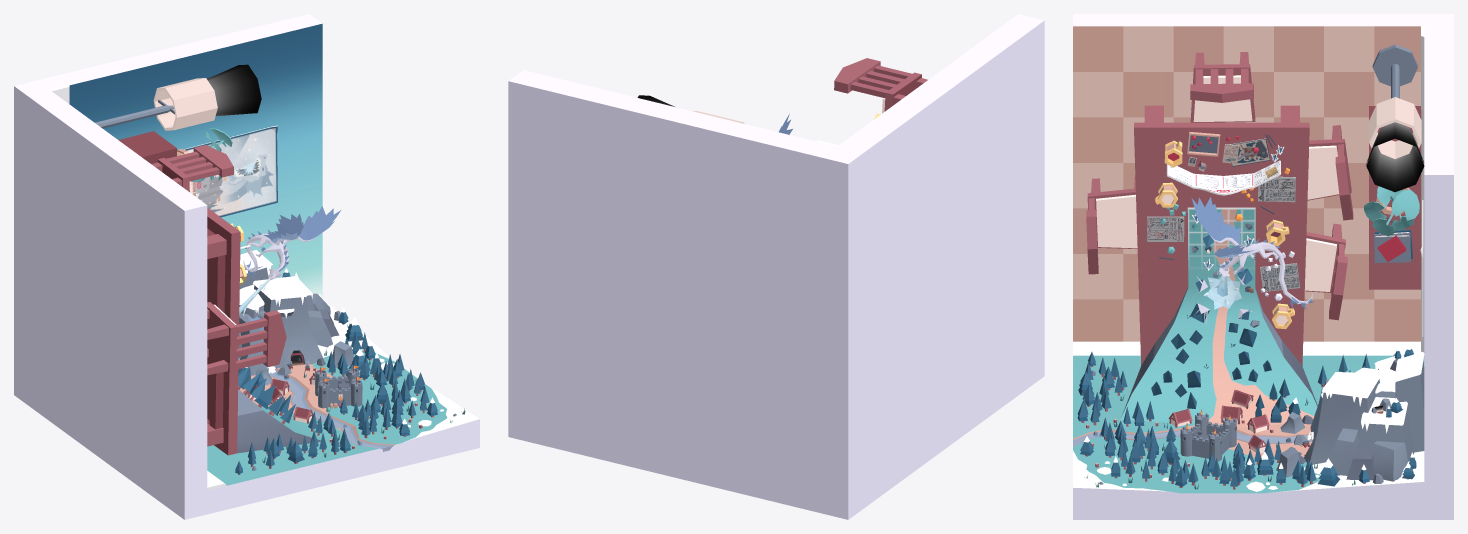
The model's file is dragon-room.glb.
3 views of the same model, side by side, from view 1: azimuth 30°, elevation 25°; view 2: azimuth 150°, elevation 25°; view 3: azimuth 270°, elevation 25° (orthographic). The views are drawn at different scales.
Visible parts, largest first — view 1: Room_GEO, Furniture_GEO, RockmineKeep_GEO, Dragon_GEO; view 2: Room_GEO, Furniture_GEO; view 3: Room_GEO, Furniture_GEO, RockmineKeep_GEO, Table_Decorations_GEO, Dragon_GEO, ShelfItems_GEO.
Part boxes in pixels (bbox=[...]): Room_GEO: bbox=[14, 14, 479, 519]; Furniture_GEO: bbox=[95, 64, 286, 455]; RockmineKeep_GEO: bbox=[235, 250, 479, 474]; Dragon_GEO: bbox=[239, 206, 340, 316]; Room_GEO: bbox=[508, 14, 1044, 519]; Furniture_GEO: bbox=[637, 58, 927, 123]; Room_GEO: bbox=[1073, 14, 1453, 519]; Furniture_GEO: bbox=[1086, 44, 1424, 365]; RockmineKeep_GEO: bbox=[1073, 214, 1424, 493]; Table_Decorations_GEO: bbox=[1147, 131, 1300, 329]; Dragon_GEO: bbox=[1191, 197, 1314, 309]; ShelfItems_GEO: bbox=[1374, 218, 1412, 262].
Bounding box in the file's own units: 1.4 × 1.4 × 1.4.
13 materials, 10 textured.
